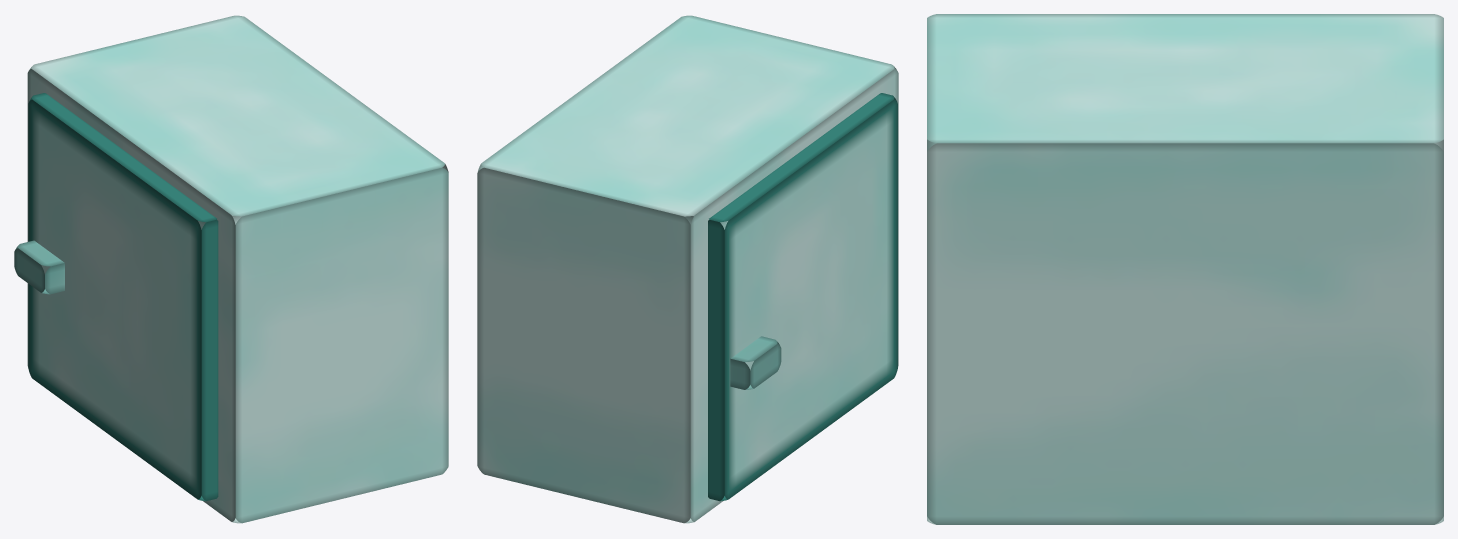
Rendered from shelf4.fbx.
3 renders of one model, left to right at view 1: azimuth 30°, elevation 25°; view 2: azimuth 150°, elevation 25°; view 3: azimuth 270°, elevation 25°, orthographic. The views are drawn at different scales.
Visible parts, largest first — view 1: cuboid, cuboid_2, cuboid_3; view 2: cuboid, cuboid_2, cuboid_3; view 3: cuboid.
Part boxes in pixels (bbox=[...]): cuboid: bbox=[27, 15, 448, 523]; cuboid_2: bbox=[28, 93, 218, 501]; cuboid_3: bbox=[14, 240, 64, 294]; cuboid: bbox=[477, 15, 898, 523]; cuboid_2: bbox=[708, 93, 897, 501]; cuboid_3: bbox=[730, 336, 781, 389]; cuboid: bbox=[927, 14, 1443, 524].
Size of the model in its own units: 117 by 138 by 169.
1 material, 1 textured.
